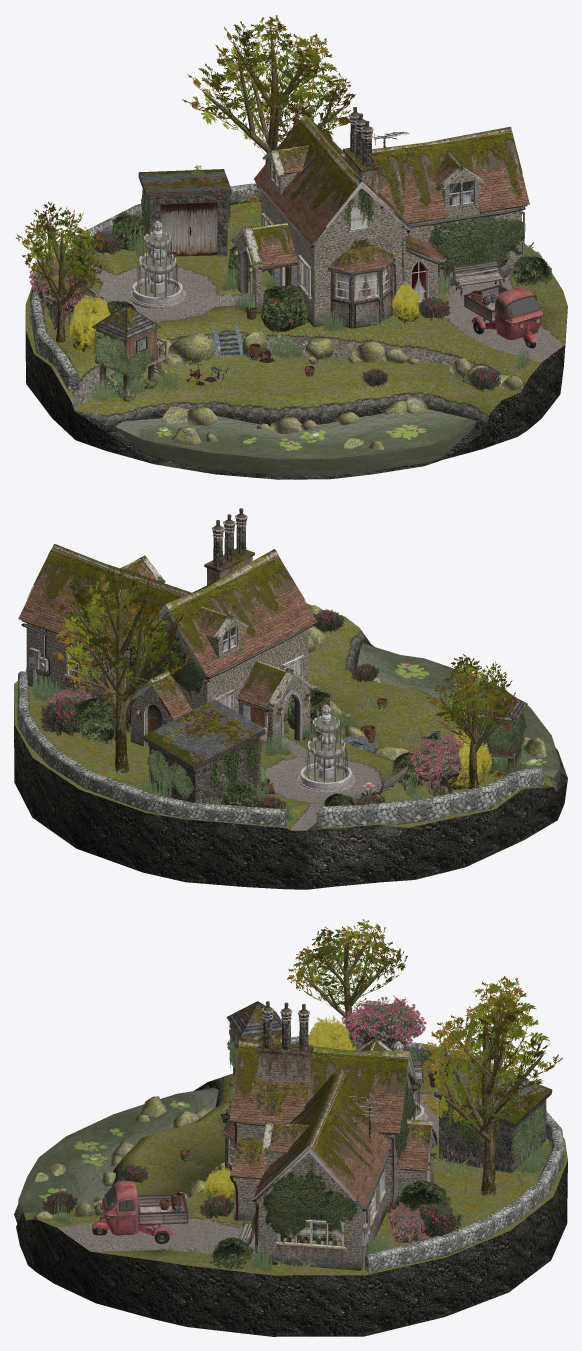
The picture shows the model from 3 angles, top to bottom: view 1: azimuth 30°, elevation 25°; view 2: azimuth 150°, elevation 25°; view 3: azimuth 270°, elevation 25°; orthographic projection. The views are drawn at different scales.
Parts seen in each view (by area): view 1: Ground_M_Grass_0, Plants_TreeCompletePlants_0, Water_M_Water_0, RoofPlayHouseDecay_M_Dirt_Roof_0, Plants_M_Klimop_0, House_M_Walls_0, Plants_M_Plants02_0, Ground_M_WetStone_0, House_M_Roof_Tileble_0, polySurface422_M_Rocks_0, Ground_Pad1_0, Ground_M_WetGroundEdge_0 (+16 smaller); view 2: Ground_M_WetStone_0, Ground_M_Grass_0, Plants_TreeCompletePlants_0, RoofPlayHouseDecay_M_Dirt_Roof_0, LittleWall_M_LittleWall_0, Plants_M_Klimop_0, Plants_M_Plants02_0, House_M_Walls_0, House_M_Roof_Tileble_0, Plants_TreeCompleteTreeBark_0, Bench_M_ChimneyAndElectricty_0, Water_M_Water_0 (+12 smaller); view 3: Ground_M_WetStone_0, Plants_TreeCompletePlants_0, Ground_M_Grass_0, RoofPlayHouseDecay_M_Dirt_Roof_0, Plants_M_Klimop_0, Plants_M_Plants02_0, House_M_Roof_Tileble_0, House_M_Walls_0, Water_M_Water_0, LittleWall_M_LittleWall_0, Plants_TreeCompleteTreeBark_0, Ground_Pad1_0 (+11 smaller).
Boxes of the visible parts, <box> form: Ground_M_Grass_0: <box>25,202,567,414</box>; Plants_TreeCompletePlants_0: <box>16,15,557,405</box>; Water_M_Water_0: <box>115,409,477,475</box>; RoofPlayHouseDecay_M_Dirt_Roof_0: <box>93,118,522,341</box>; Plants_M_Klimop_0: <box>43,211,541,450</box>; House_M_Walls_0: <box>236,155,521,325</box>; Plants_M_Plants02_0: <box>29,186,552,402</box>; Ground_M_WetStone_0: <box>25,310,567,479</box>; House_M_Roof_Tileble_0: <box>254,122,529,272</box>; polySurface422_M_Rocks_0: <box>107,331,523,449</box>; Ground_Pad1_0: <box>70,254,564,362</box>; Ground_M_WetGroundEdge_0: <box>75,390,490,432</box>; Ground_M_WetStone_0: <box>14,644,567,889</box>; Ground_M_Grass_0: <box>14,615,555,829</box>; Plants_TreeCompletePlants_0: <box>30,567,515,798</box>; RoofPlayHouseDecay_M_Dirt_Roof_0: <box>27,548,527,766</box>; LittleWall_M_LittleWall_0: <box>17,671,543,828</box>; Plants_M_Klimop_0: <box>30,608,546,821</box>; Plants_M_Plants02_0: <box>42,685,525,806</box>; House_M_Walls_0: <box>26,557,310,749</box>; House_M_Roof_Tileble_0: <box>18,548,317,719</box>; Plants_TreeCompleteTreeBark_0: <box>66,580,505,789</box>; Bench_M_ChimneyAndElectricty_0: <box>21,508,408,802</box>; Water_M_Water_0: <box>357,643,560,779</box>; Ground_M_WetStone_0: <box>14,1082,567,1336</box>; Plants_TreeCompletePlants_0: <box>74,919,562,1273</box>; Ground_M_Grass_0: <box>24,1068,567,1275</box>; RoofPlayHouseDecay_M_Dirt_Roof_0: <box>227,1003,551,1189</box>; Plants_M_Klimop_0: <box>38,1023,551,1272</box>; Plants_M_Plants02_0: <box>56,995,502,1269</box>; House_M_Roof_Tileble_0: <box>222,1045,431,1207</box>; House_M_Walls_0: <box>227,1053,432,1266</box>; Water_M_Water_0: <box>18,1087,218,1219</box>; LittleWall_M_LittleWall_0: <box>291,1035,564,1272</box>; Plants_TreeCompleteTreeBark_0: <box>299,930,544,1196</box>; Ground_Pad1_0: <box>57,1094,438,1258</box>.
Bounding box in the file's own units: 0.5886 × 0.3 × 0.5628.
32 materials, 30 textured.
